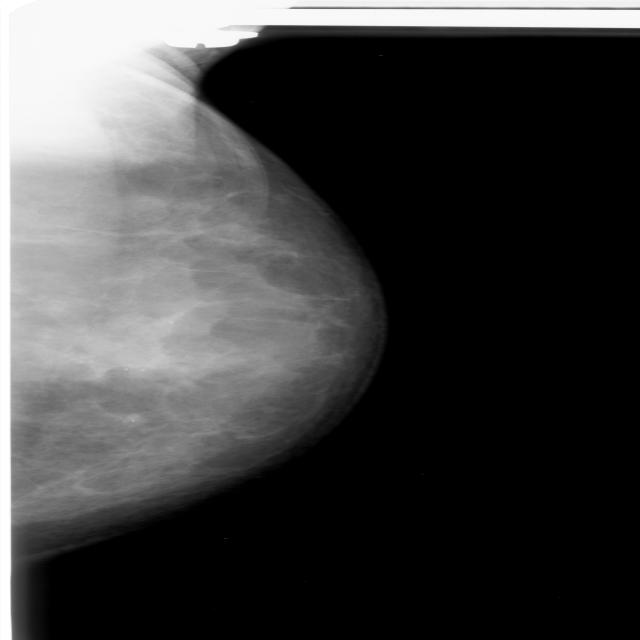normal: (0, 59, 456, 573)
